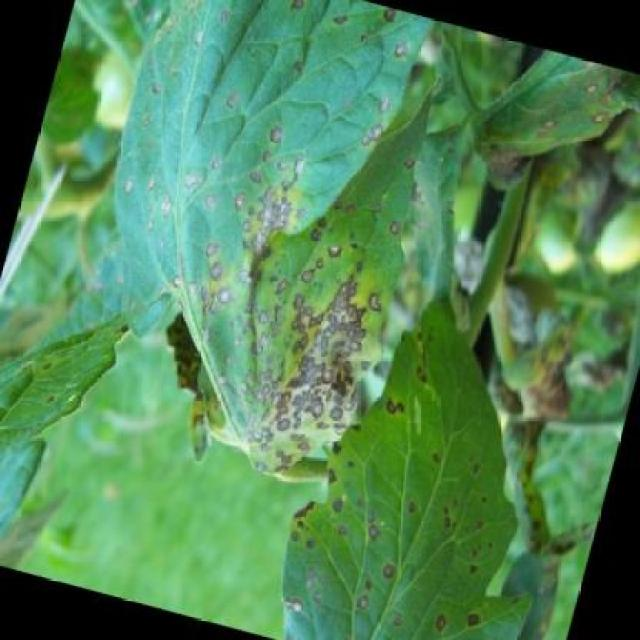Septoria leaf spot: (44, 0, 458, 497), (262, 269, 628, 640)
